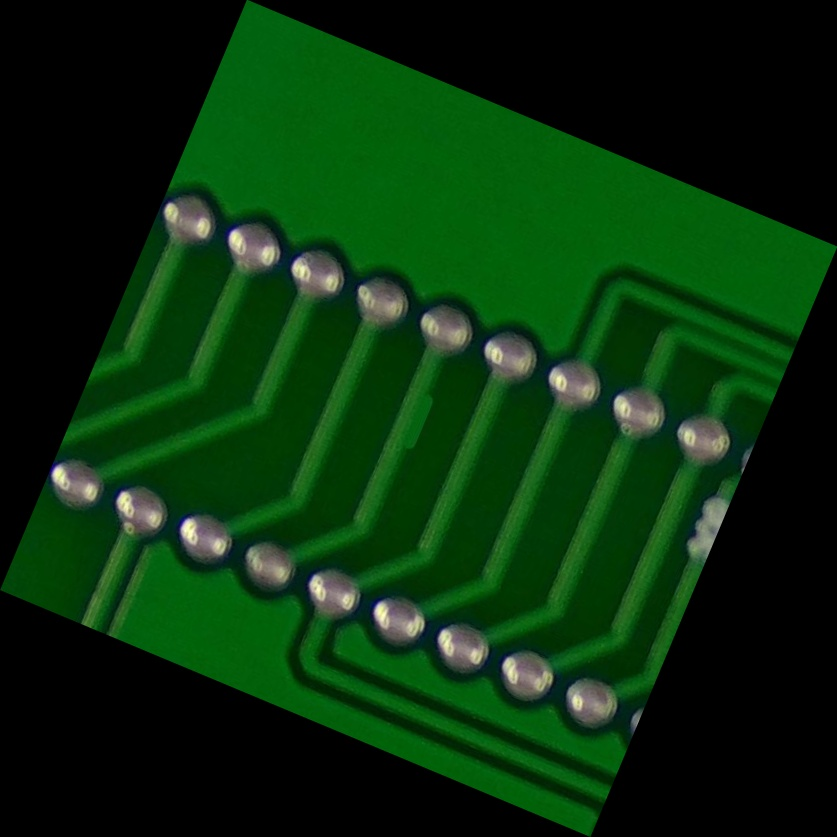spur: (381, 375, 457, 463)
